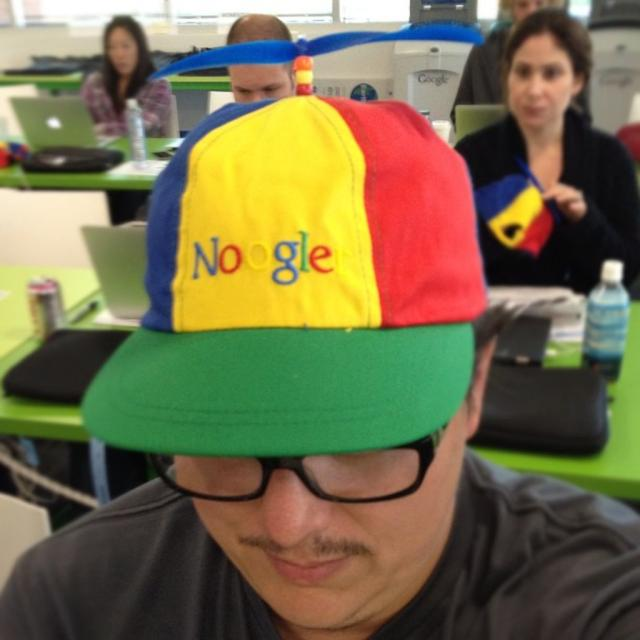Hat: (80, 23, 488, 456)
